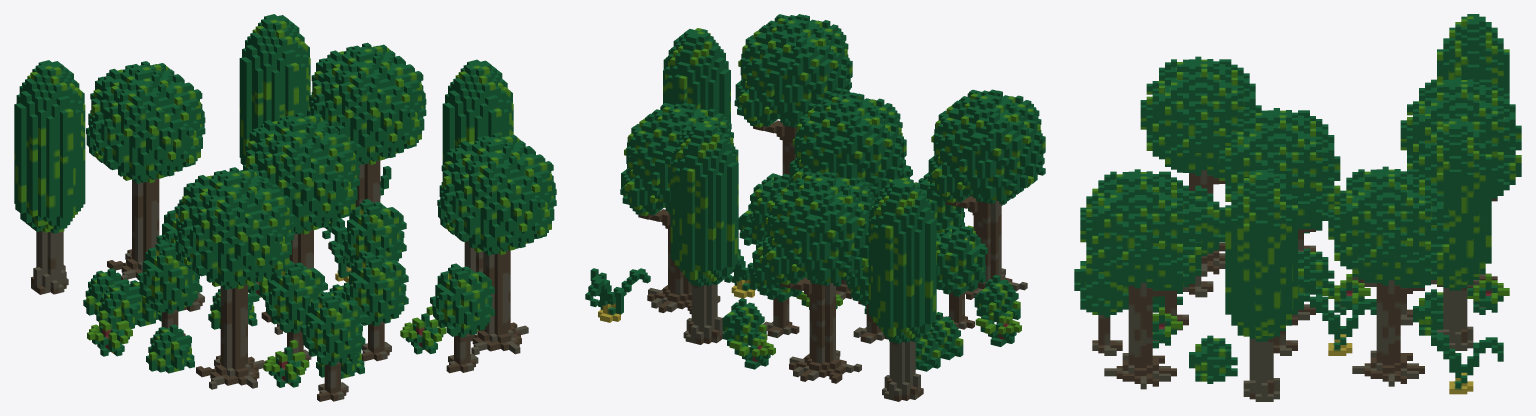
File: trees_1_overtile.glb
3 views of the same model, side by side, from view 1: azimuth 30°, elevation 25°; view 2: azimuth 150°, elevation 25°; view 3: azimuth 270°, elevation 25° (orthographic). The views are drawn at different scales.
Parts seen in each view (by area): view 1: trees_1_overtile; view 2: trees_1_overtile; view 3: trees_1_overtile.
Part boxes in pixels (x1,y1,x2,y2): trees_1_overtile: [14, 14, 556, 401]; trees_1_overtile: [585, 14, 1045, 401]; trees_1_overtile: [1074, 14, 1521, 401].
Bounding box in the file's own units: 7.5 × 4 × 7.4.
1 material, 1 textured.
